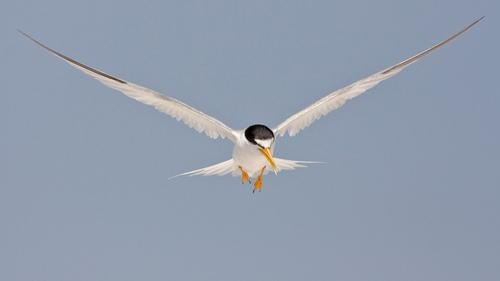bird: (17, 15, 485, 189)
